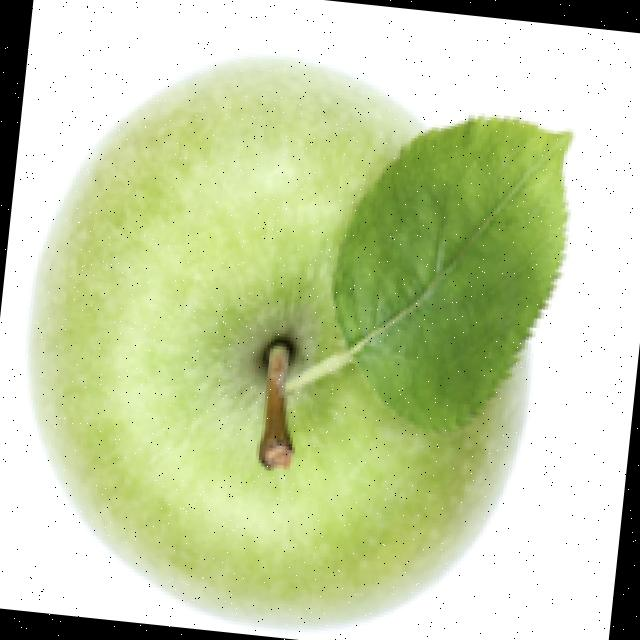apple: (23, 52, 578, 636)
